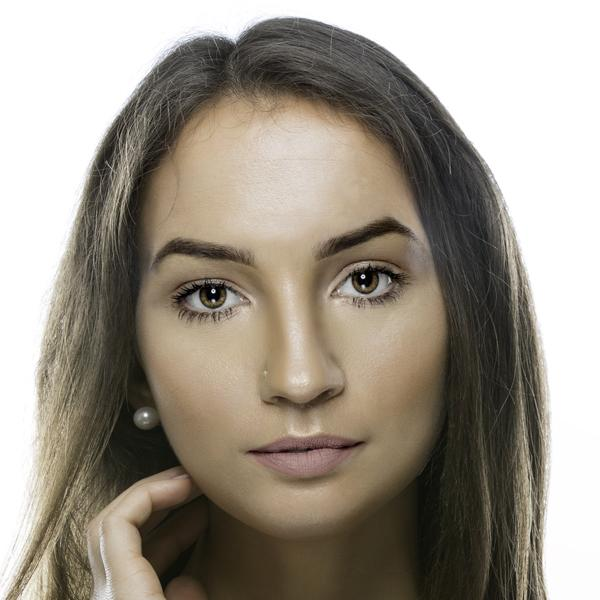Eyes: (162, 268, 259, 330), (323, 253, 415, 314)
